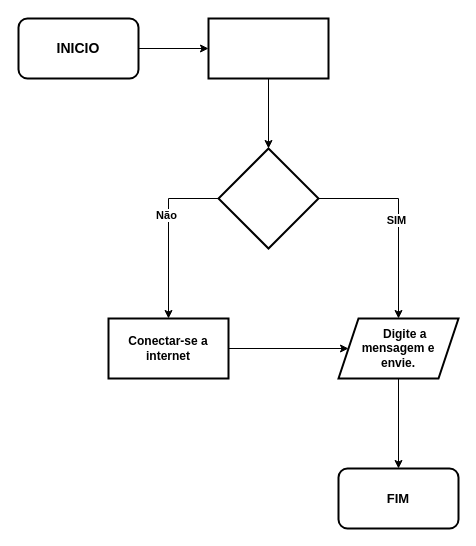
Image size: 476x546. Some labels were removed from this diagram. The shapes that lost their labels are listed below. From the top down, each one's box as (x1, y1, x2, y2) in pixels, then its label:
(207, 17, 329, 79): Abrir WhatsApp
(217, 147, 319, 249): Conectado a internet
